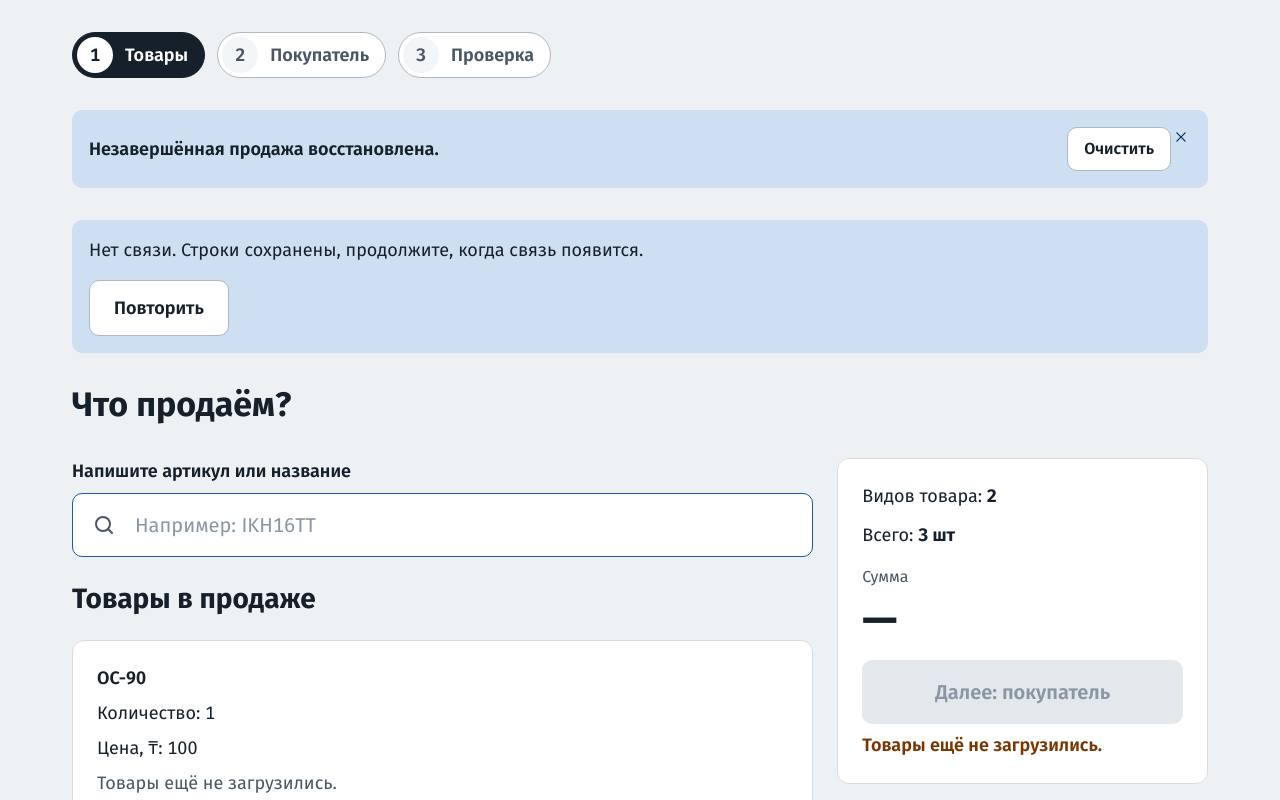
it: draft product safety › keeps both visible lines after product status 0 and reloads them
Expected: the message "Нет связи. Строки сохранены, продолжите, когда связь появится. Повторить" is shown, [72,220,1208,353]
Expected: the text with test id "sale-total" reads "—", [862,593,897,646]
What coordinates should you click on to do the following:
click the button "Повторить"
I would click on:
 (159, 308)
Its box is [89,280,229,336].
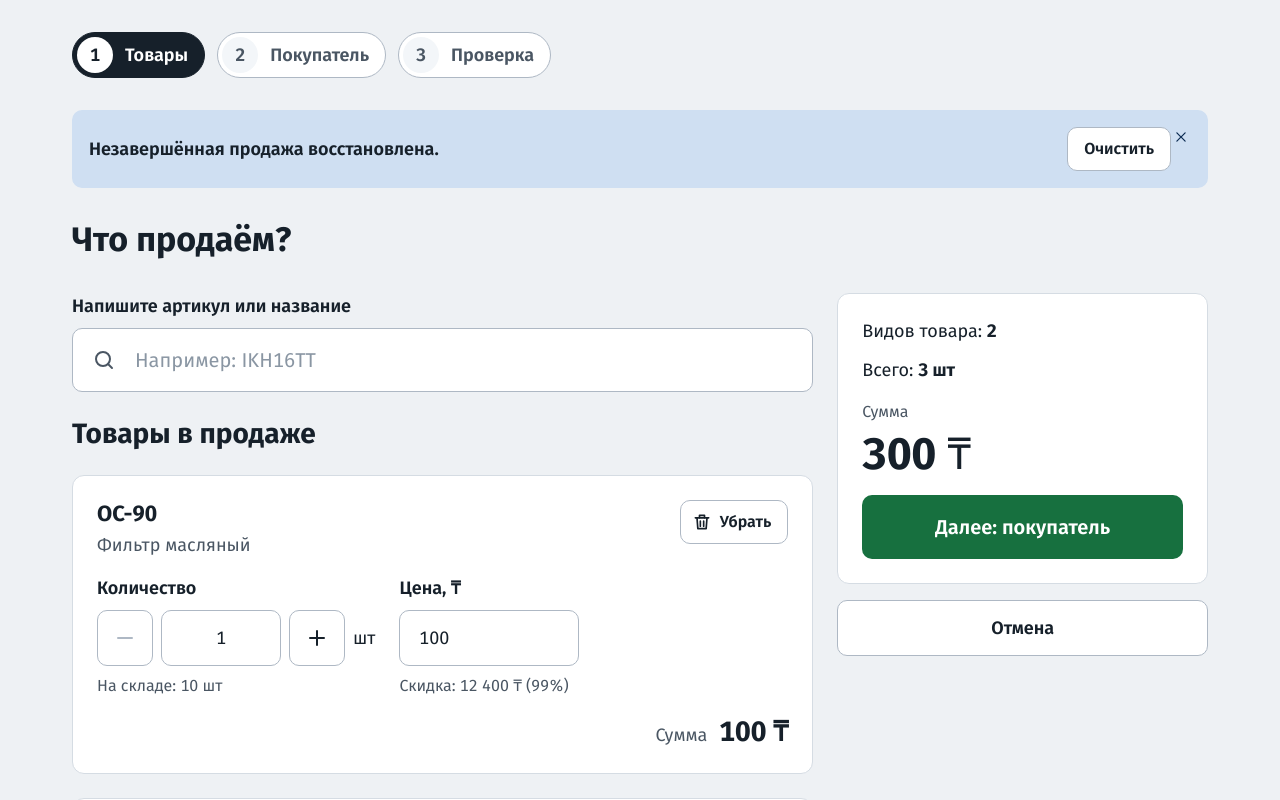
Result: the button "Далее: покупатель" is enabled at [862,495,1183,559]
